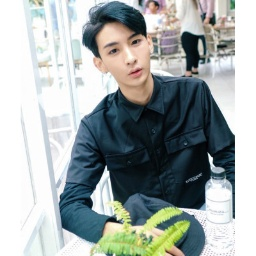face: (83, 2, 153, 88)
